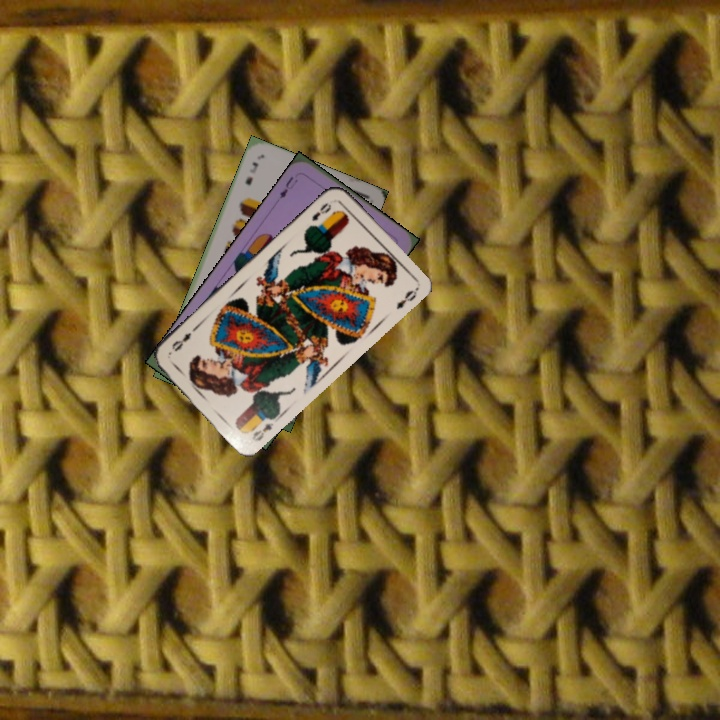E7: (241, 158, 261, 188)
EO: (247, 419, 276, 444), (307, 198, 334, 224)
EU: (275, 172, 300, 201)
